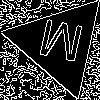M: (34, 19, 86, 72)
